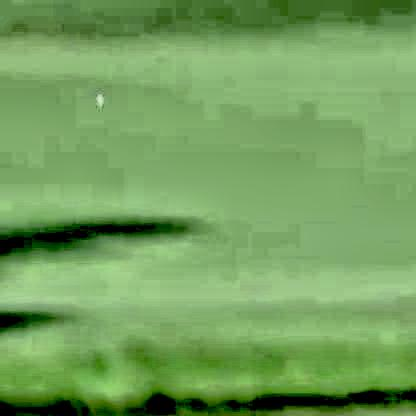golfball: (94, 90, 104, 103)
